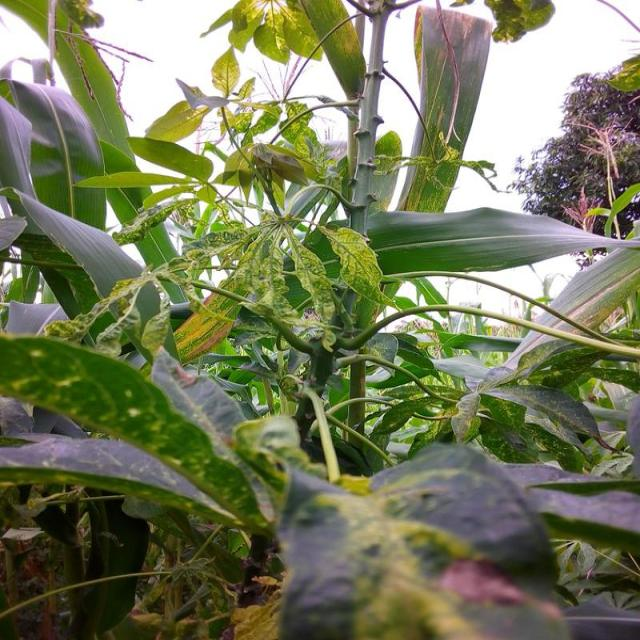cassava leaf: (2, 1, 639, 637), (272, 438, 570, 638), (1, 330, 278, 536)
